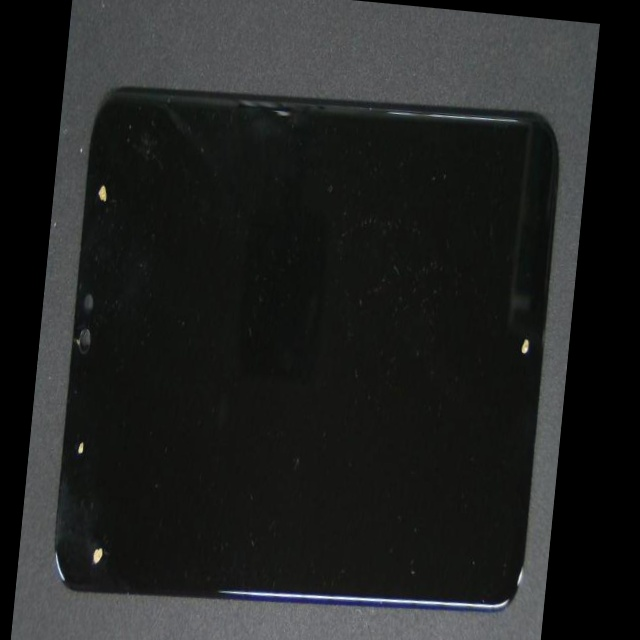stain: (282, 192, 581, 509), (44, 154, 132, 640), (66, 290, 186, 640), (74, 47, 136, 284)
